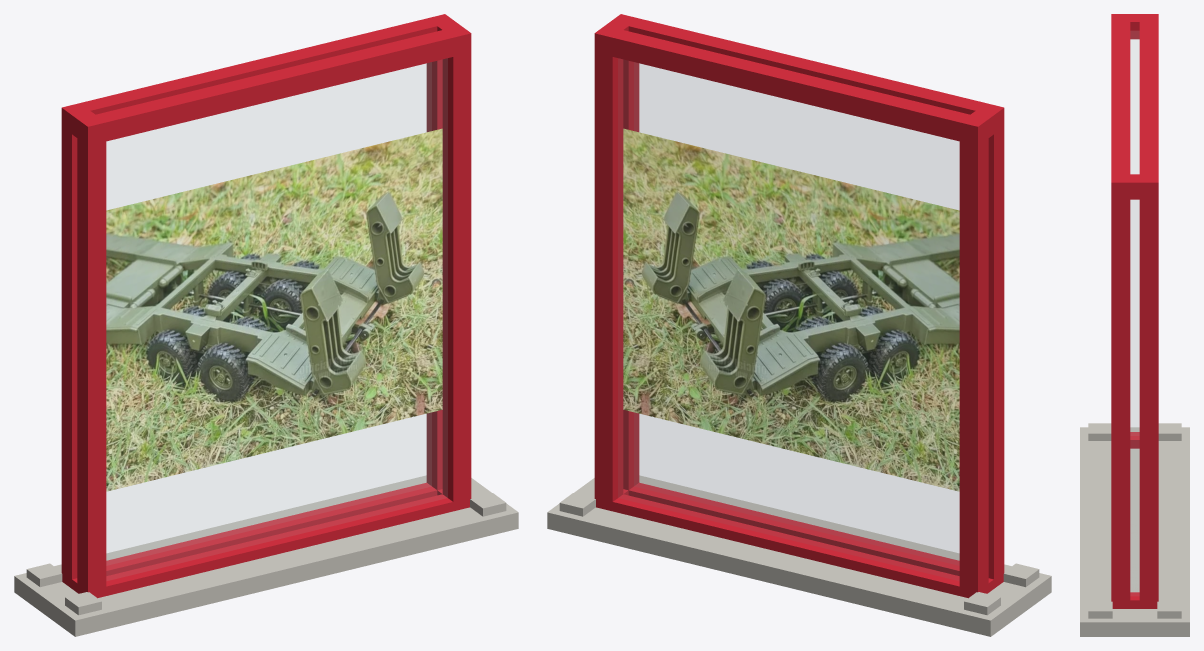
File: ural-4320-chiregch.glb
3 views of the same model, side by side, from view 1: azimuth 30°, elevation 25°; view 2: azimuth 150°, elevation 25°; view 3: azimuth 270°, elevation 25° (orthographic). The views are drawn at different scales.
Size of the model in its own units: 0.17 by 0.1795 by 0.0405.
4 materials, 1 textured.
